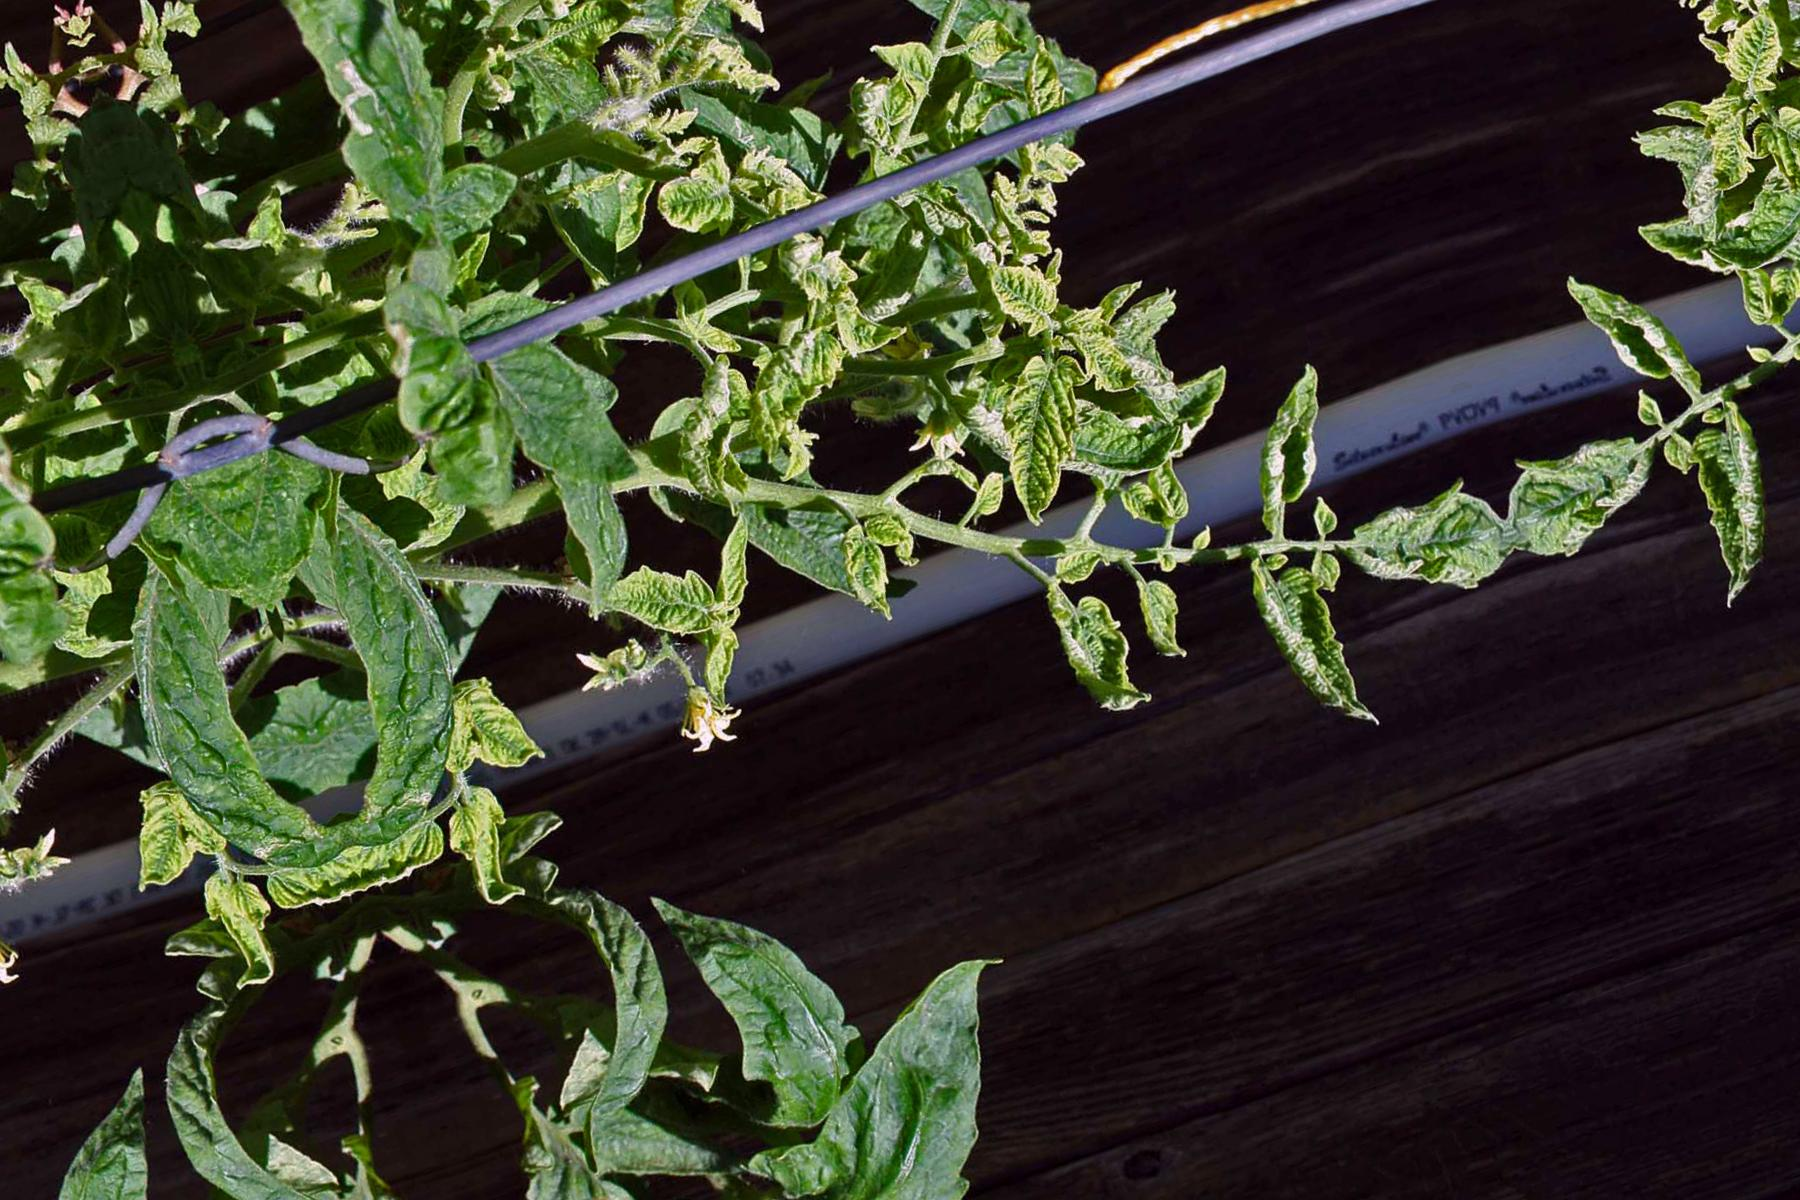Tomato leaf yellow virus: (260, 0, 521, 283), (447, 265, 658, 533), (1220, 524, 1398, 779), (712, 256, 924, 459), (1015, 548, 1172, 766), (959, 328, 1117, 528), (1334, 461, 1521, 619), (587, 521, 754, 687), (824, 504, 939, 652), (963, 230, 1083, 362), (1049, 284, 1160, 421), (633, 139, 754, 254), (1120, 560, 1212, 686), (992, 0, 1137, 32), (497, 0, 619, 32)
